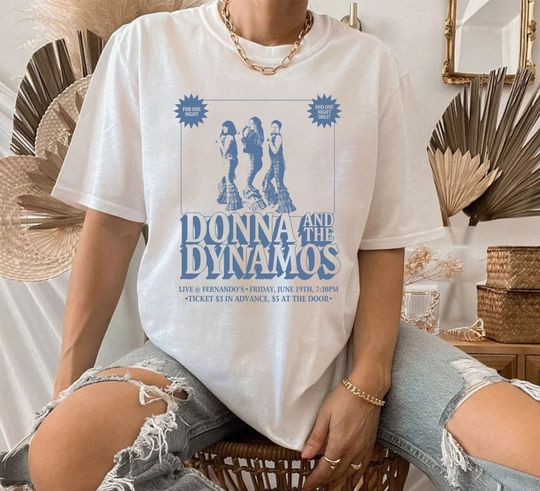design: (170, 90, 344, 305)
